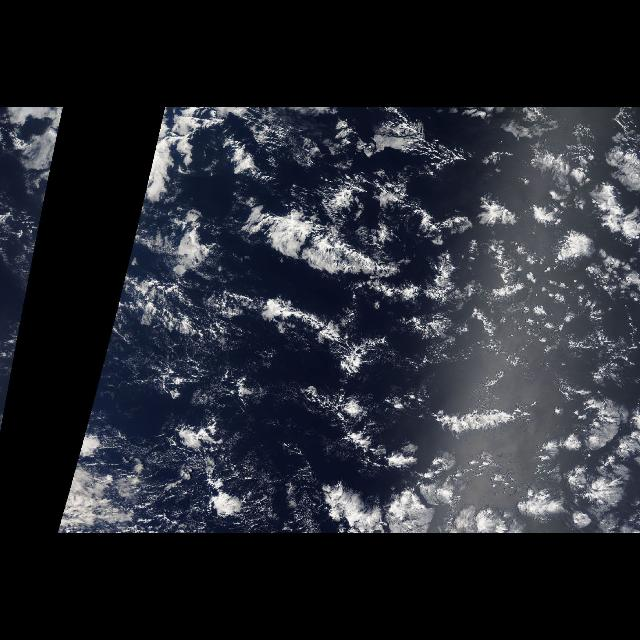Flower: (233, 125, 639, 532)
Sugar: (230, 421, 322, 534)
